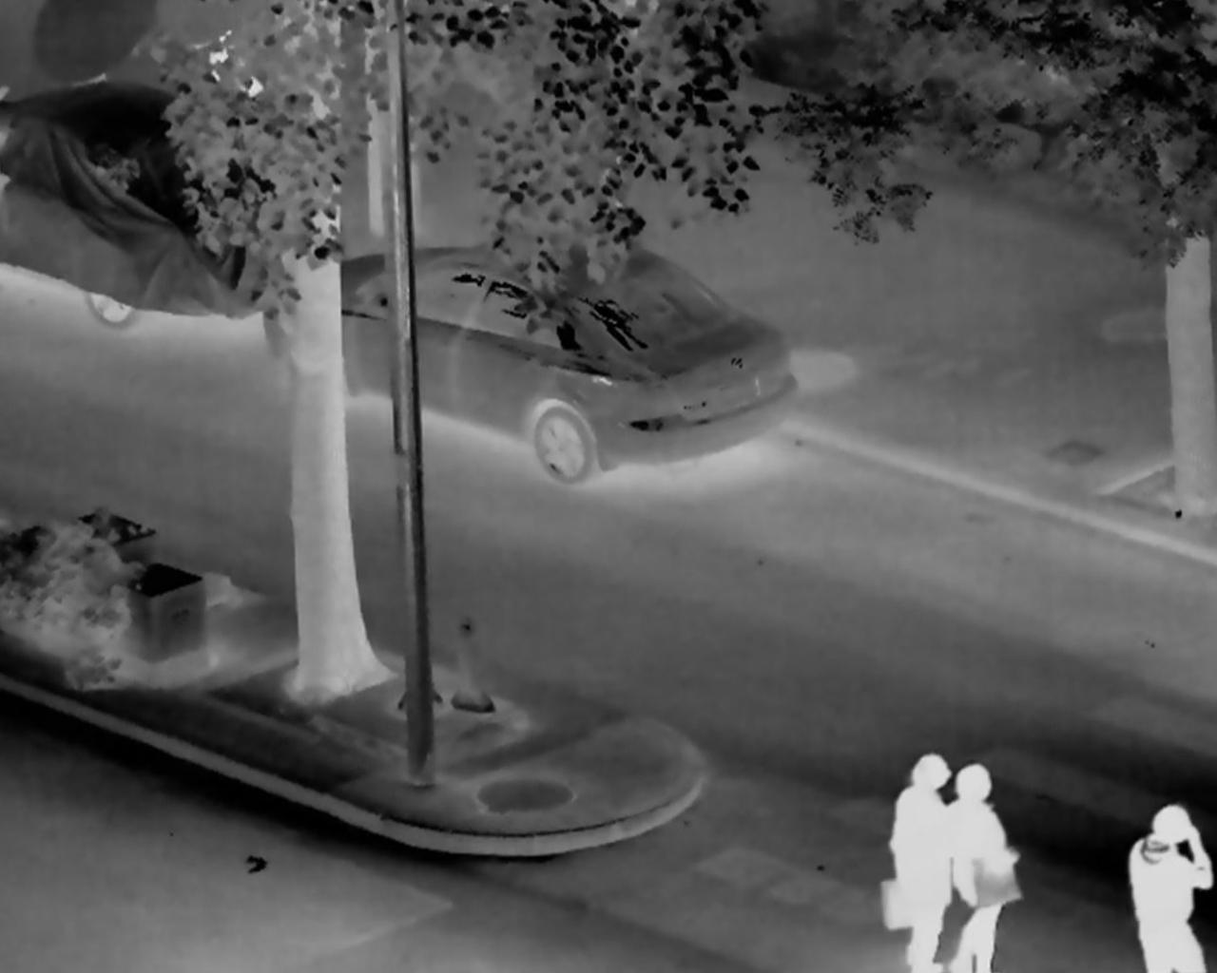person: (879, 754, 956, 969), (942, 764, 1011, 973), (1130, 803, 1209, 973)
